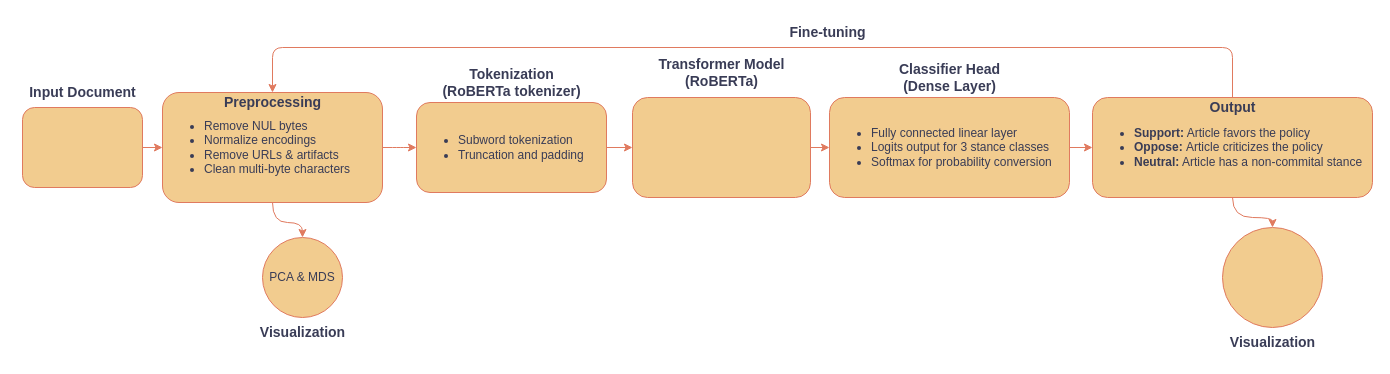
Image size: 1390x374. Some labels were removed from this diagram. Each missing label, with the centre of its shape:
"Classification report & Confusion matrix" goes at (1272,277).
"Corpus of 49 policy related journal articles" goes at (82,147).
"RoBERTa base encoder 3-class classification" goes at (721,147).
